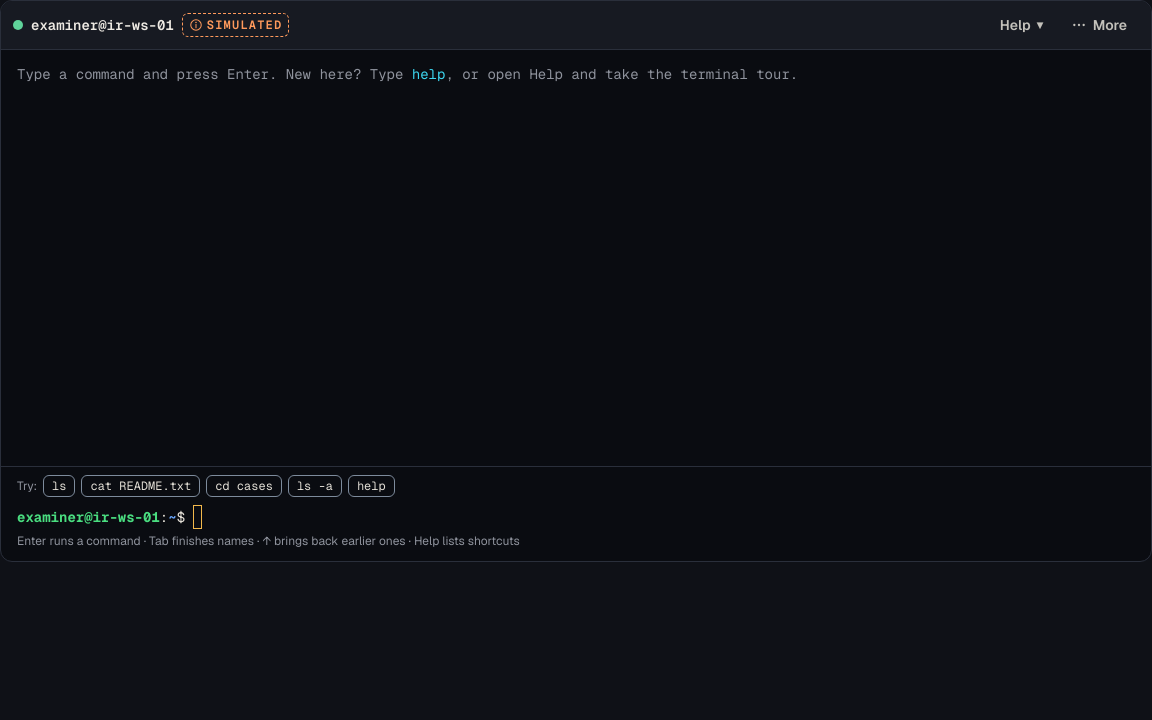
Test case: Terminal › finishes a file name with Tab
# The practice computer's home folder has notes.txt (src/content/sandbox/workstation.ts).
Type "cat not" into the field named "Command, in" at (664, 517), box top-left (193, 505), bottom-right (1135, 529)
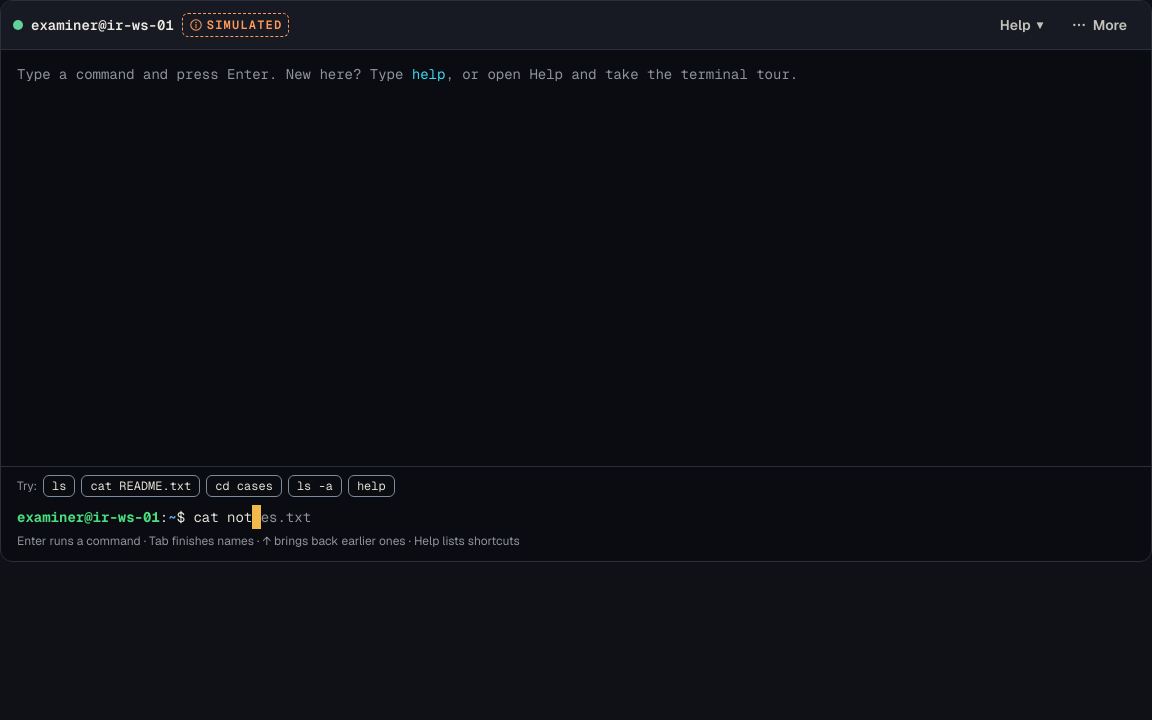
Press Tab
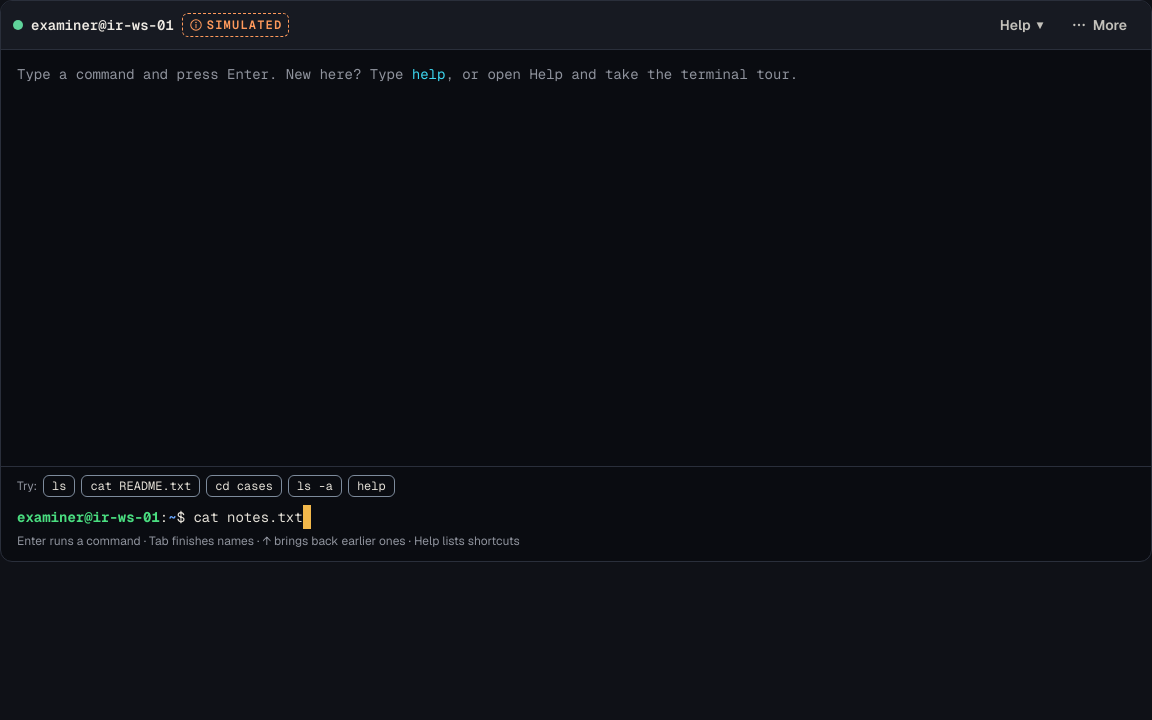
Expected: the field named "Command, in" holds "cat notes.txt", top-left (193, 505), bottom-right (1135, 529)
